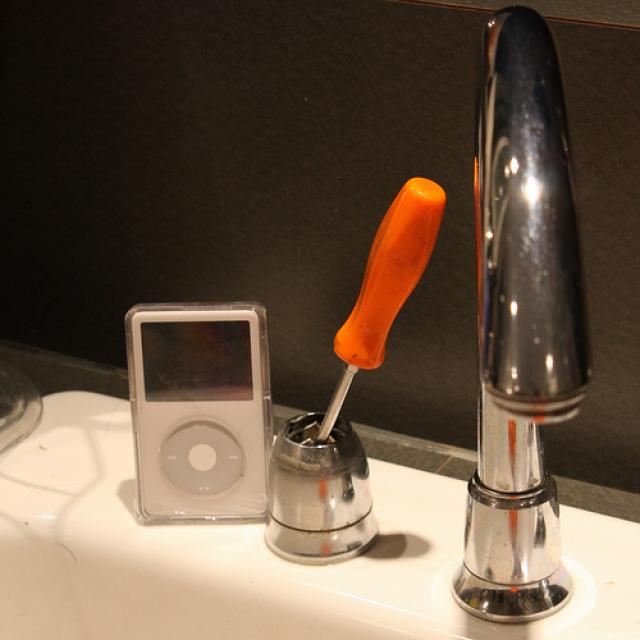screw_driver: (315, 178, 447, 444)
